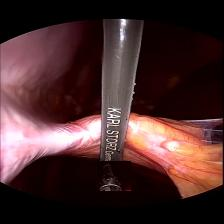Scissors: (97, 160, 131, 190)
